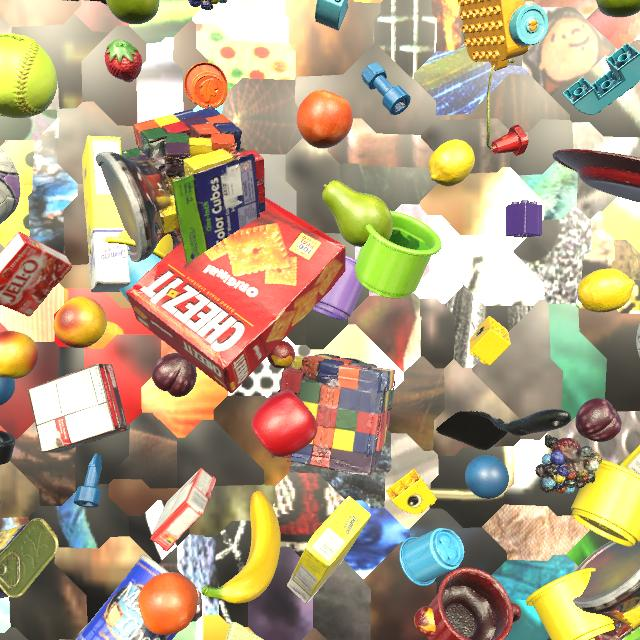ycb_002_master_chef_can: (76, 554, 201, 640)
ycb_003_cracker_box: (125, 197, 346, 393)
ycb_004_sugar_box: (287, 496, 371, 604), (82, 136, 131, 293), (620, 444, 640, 475)
ycb_008_pudding_box: (27, 363, 128, 453)
ycb_009_gelatin_box: (0, 231, 73, 317), (150, 468, 216, 552)
ycb_010_potted_meat_can: (0, 518, 59, 599)
ycb_011_banana: (202, 491, 281, 604)
ycb_012_strawberry: (105, 39, 142, 82)
ycb_013_apple: (252, 390, 318, 457)
ycb_014_lemon: (577, 268, 635, 312), (428, 140, 475, 186)
ycb_015_peach: (53, 296, 107, 348), (0, 331, 39, 379)
ycb_016_pear: (322, 180, 393, 247), (106, 0, 159, 25), (596, 0, 640, 18)
ycb_017_orange: (138, 572, 198, 635), (296, 89, 353, 149)
ycb_018_plum: (575, 398, 622, 442), (152, 353, 197, 397)
